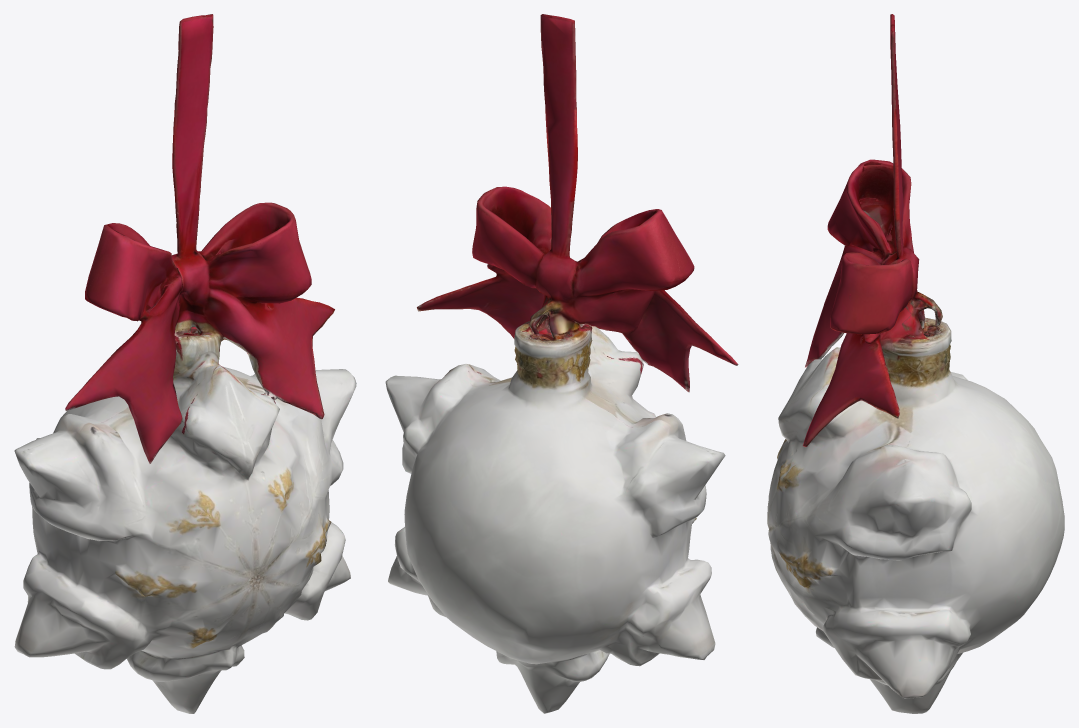
The model's file is bol.glb.
The picture shows the model from 3 angles, left to right: view 1: azimuth 30°, elevation 25°; view 2: azimuth 150°, elevation 25°; view 3: azimuth 270°, elevation 25°; orthographic projection. The views are drawn at different scales.
Parts seen in each view (by area): view 1: Mesh1.0; view 2: Mesh1.0; view 3: Mesh1.0.
Boxes of the visible parts, x1,y1,x2,y2 form: Mesh1.0: [14, 14, 356, 713]; Mesh1.0: [385, 14, 738, 713]; Mesh1.0: [767, 14, 1064, 713].
Bounding box in the file's own units: 1 × 2 × 0.7793.
1 material, 1 textured.
